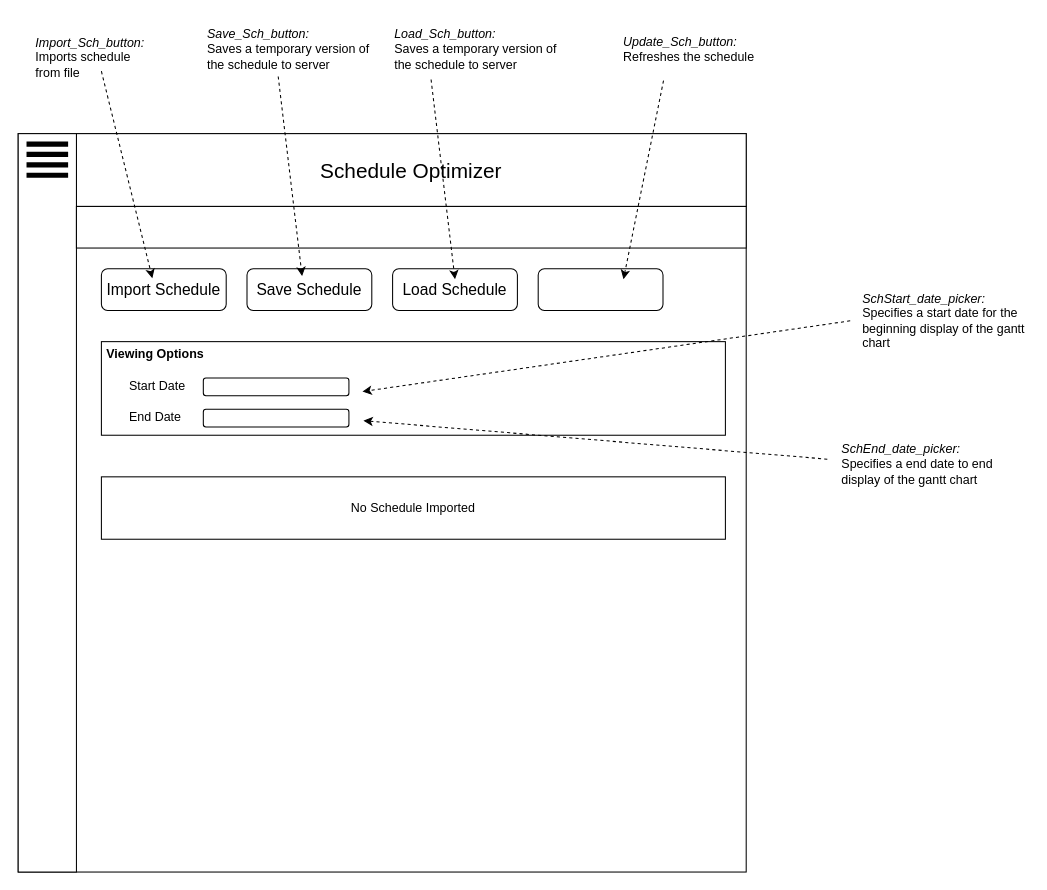
Some shapes in this 1047 by 890 pixel diagram are drawn without their labels. Each missing label, with the centre of its shape:
"Schedule Viewer" belongs at (410,226).
"Update Schedule" belongs at (600,289).
